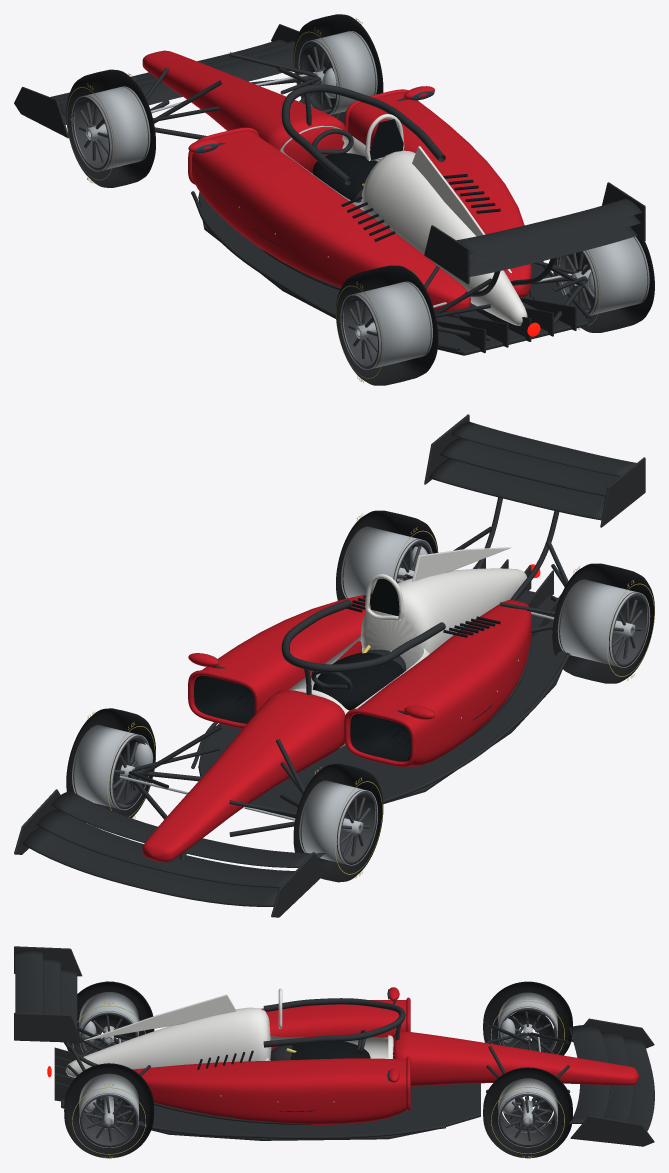
Rendered from sf26-runtime.glb.
3 views of the same model, one above another, from view 1: azimuth 30°, elevation 25°; view 2: azimuth 150°, elevation 25°; view 3: azimuth 270°, elevation 25° (orthographic). The views are drawn at different scales.
Visible parts, largest first — view 1: Sidepod_-1, Nose, Engine_cover, Sidepod_1, Bodywork_Rear_wing_Carbon_twill, Floor, Wheel_RR_Trim_Machined_titanium, Bodywork_Suspension_Carbon_twill, Wheel_RL_Trim_Machined_titanium, Tire_RR, Wheel_FR_Trim_Machined_titanium, Tire_FR (+22 smaller); view 2: Bodywork_Front_wing_Carbon_twill, Sidepod_-1, Nose, Bodywork_Rear_wing_Carbon_twill, Floor, Engine_cover, Sidepod_1, Wheel_RR_Trim_Machined_titanium, Bodywork_Suspension_Carbon_twill, Wheel_FR_Trim_Machined_titanium, Tire_RR, Wheel_RL_Trim_Machined_titanium (+21 smaller); view 3: Sidepod_1, Nose, Floor, Engine_cover, Bodywork_Front_wing_Carbon_twill, Bodywork_Rear_wing_Carbon_twill, Sidepod_-1, Tire_RL, Tire_FL, Tire_FR, Bodywork_Halo_Carbon_twill, Wheel_RL_Trim_Dark_magnesium (+24 smaller).
Part boxes in pixels (x1,y1,x2,y2): Sidepod_-1: (192,131,470,311); Nose: (142,50,346,172); Engine_cover: (361,150,527,325); Sidepod_1: (348,93,531,298); Bodywork_Rear_wing_Carbon_twill: (456,198,642,296); Floor: (198,191,588,355); Wheel_RR_Trim_Machined_titanium: (340,281,432,369); Bodywork_Suspension_Carbon_twill: (145,52,588,340); Wheel_RL_Trim_Machined_titanium: (557,236,649,316); Tire_RR: (336,265,438,385); Wheel_FR_Trim_Machined_titanium: (71,86,150,171); Tire_FR: (66,69,155,187); Bodywork_Front_wing_Carbon_twill: (22,790,325,906); Sidepod_-1: (349,600,531,766); Nose: (142,690,345,862); Bodywork_Rear_wing_Carbon_twill: (429,421,636,600); Floor: (198,590,566,817); Engine_cover: (361,568,527,670); Sidepod_1: (193,593,372,711); Wheel_RR_Trim_Machined_titanium: (557,579,650,667); Bodywork_Suspension_Carbon_twill: (125,526,568,836); Wheel_FR_Trim_Machined_titanium: (299,780,377,865); Tire_RR: (552,563,654,683); Wheel_RL_Trim_Machined_titanium: (341,526,432,598); Sidepod_1: (133,1058,406,1124); Nose: (393,1031,638,1086); Floor: (61,1083,480,1140); Engine_cover: (65,1007,271,1077); Bodywork_Front_wing_Carbon_twill: (568,1025,654,1131); Bodywork_Rear_wing_Carbon_twill: (15,950,104,1066); Sidepod_-1: (260,1000,406,1050); Tire_RL: (64,1063,154,1158); Tire_FL: (483,1067,572,1158); Tire_FR: (483,981,572,1055); Bodywork_Halo_Carbon_twill: (263,998,405,1047); Wheel_RL_Trim_Dark_magnesium: (79,1074,138,1147).
Size of the model in its own units: 1.93 by 1.14 by 5.05.
